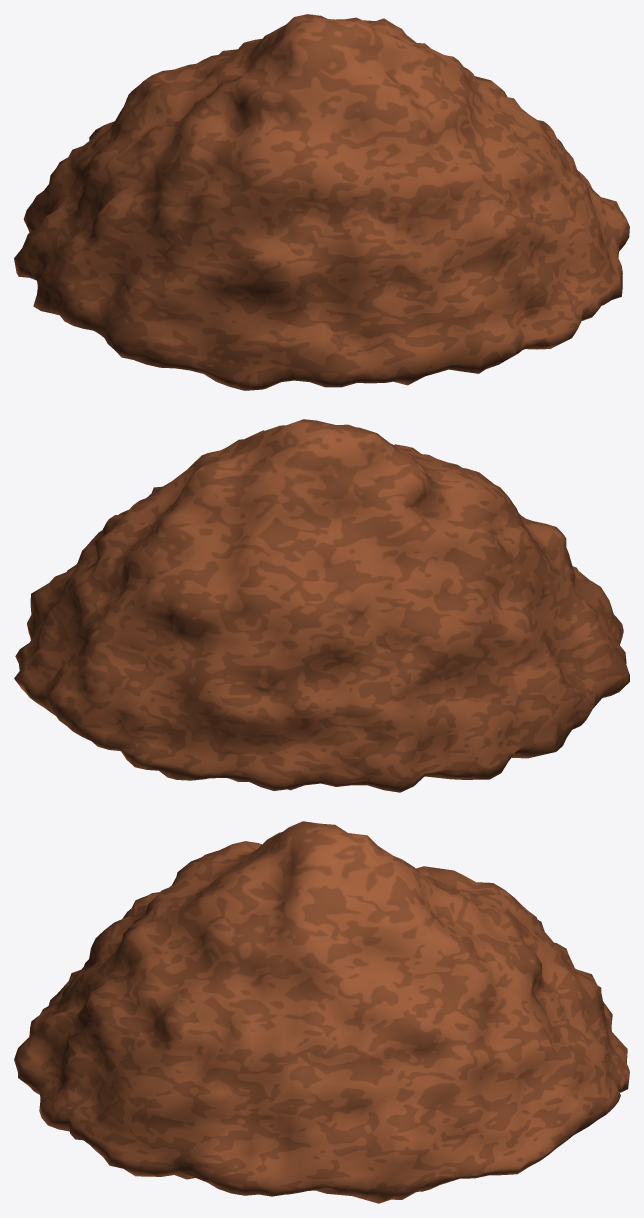
File: abon.fbx
3 views of the same model, one above another, from view 1: azimuth 30°, elevation 25°; view 2: azimuth 150°, elevation 25°; view 3: azimuth 270°, elevation 25° (orthographic).
Parts seen in each view (by area): view 1: abon; view 2: abon; view 3: abon.
Part boxes in pixels (x1,y1,x2,y2): abon: (14,14,629,390); abon: (14,419,629,792); abon: (14,821,629,1203).
Bounding box in the file's own units: 41.14 × 19.32 × 41.91.
Materials: 1 (1 with a texture image).
